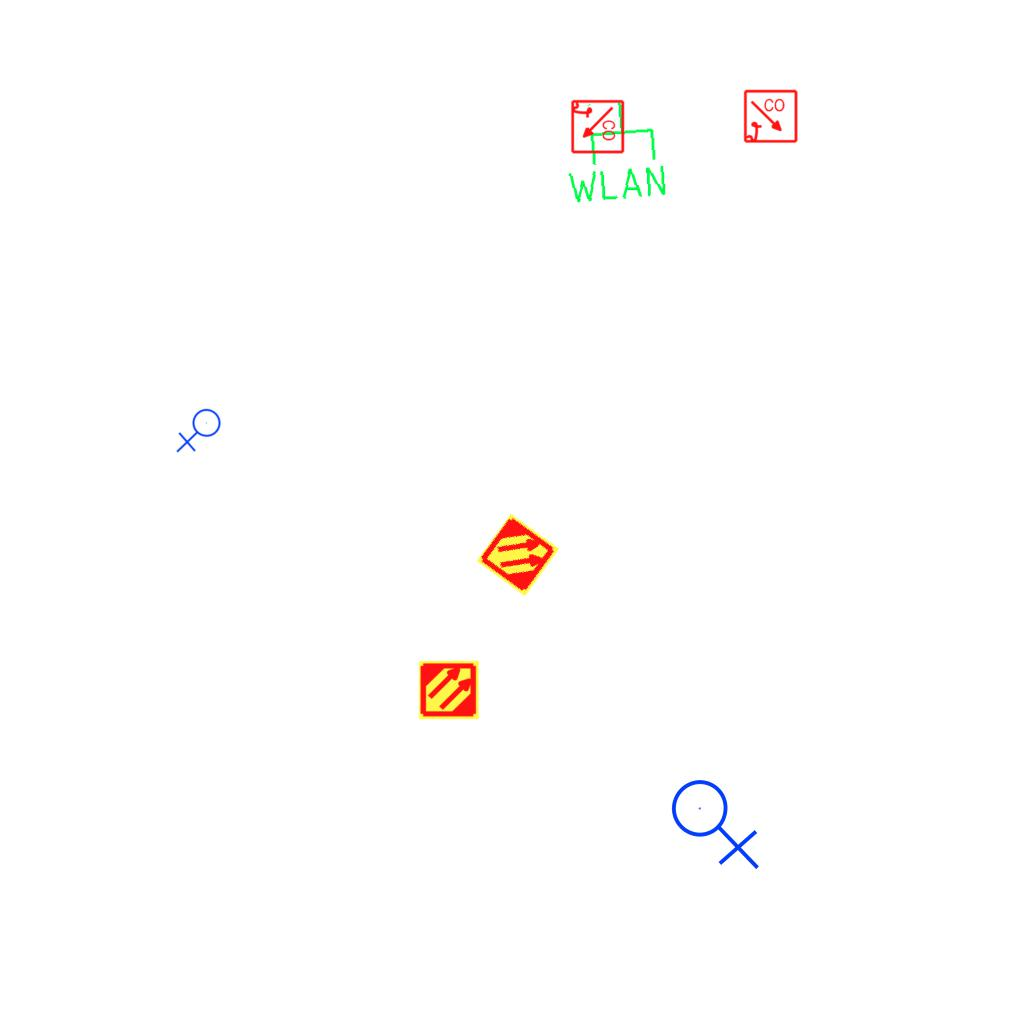ASR_Ansaugrauchmelder: (474, 511, 562, 599), (418, 659, 480, 721)
Elektroanschluss_allgemein_230V_Geraeteanschlussdose_230V: (670, 771, 764, 870), (176, 408, 225, 455)
ROA_Rauchmelder_optisch_mit_Signalgeber_(Sockelsirene): (743, 89, 799, 145), (569, 99, 625, 155)
WLAN: (557, 95, 671, 208)
